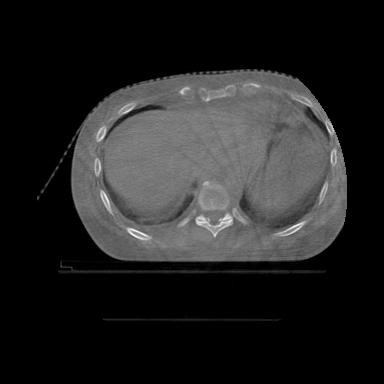body: (72, 70, 346, 261)
cord: (179, 181, 248, 237)
paru kanan: (100, 107, 195, 229)
paru kiri: (230, 90, 331, 233)
